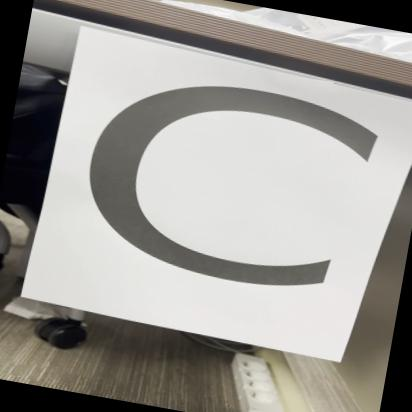seat: (31, 39, 411, 379)
